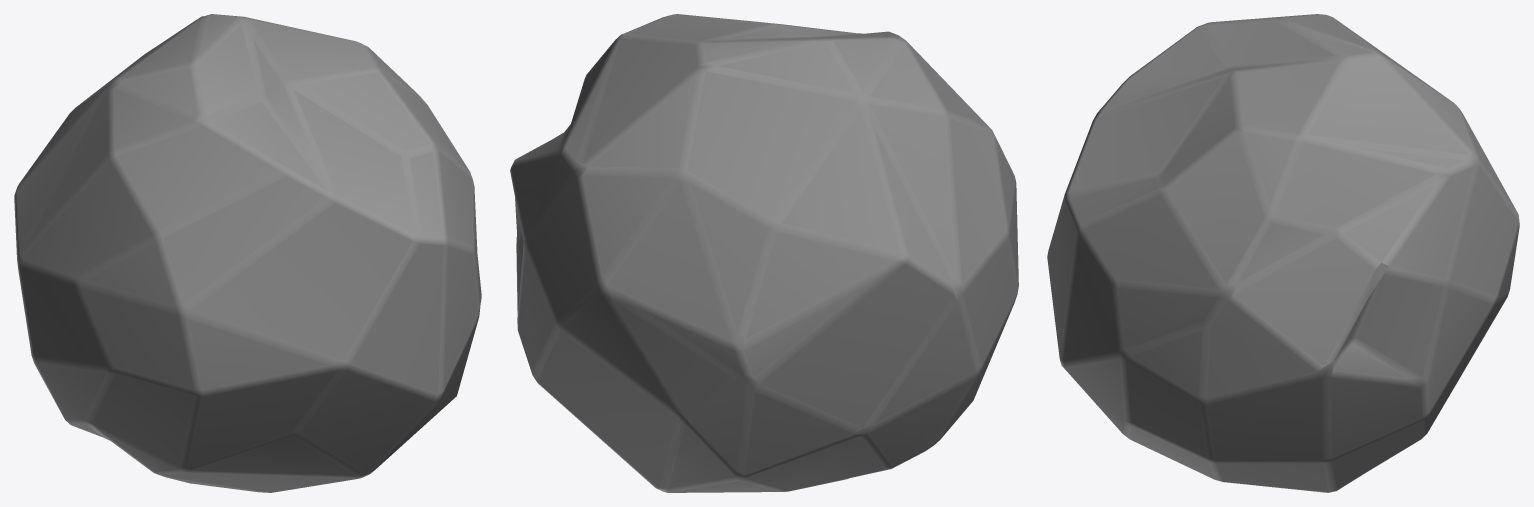
File: Stone.fbx
3 views of the same model, side by side, from view 1: azimuth 30°, elevation 25°; view 2: azimuth 150°, elevation 25°; view 3: azimuth 270°, elevation 25° (orthographic). The views are drawn at different scales.
Visible parts, largest first — view 1: Stone; view 2: Stone; view 3: Stone.
Boxes of the visible parts, x1,y1,x2,y2 form: Stone: [14, 14, 481, 492]; Stone: [510, 14, 1018, 492]; Stone: [1047, 14, 1519, 492].
Size of the model in its own units: 67.12 by 65.75 by 67.06.
